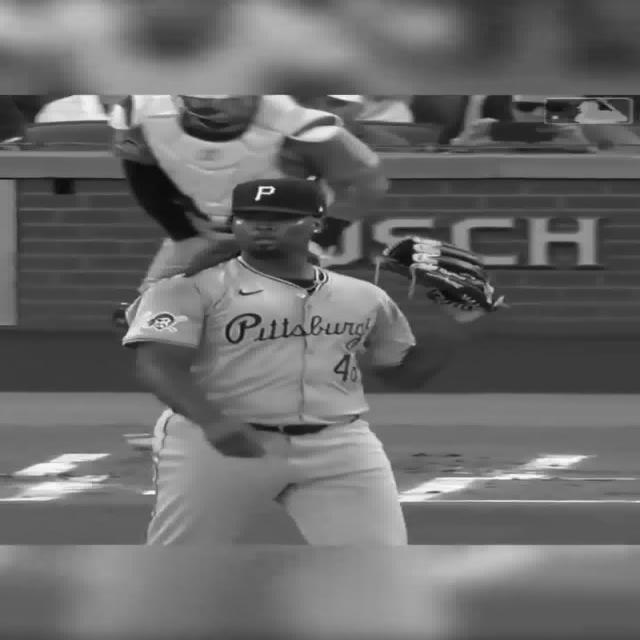baseball_glove: (371, 230, 510, 313)
